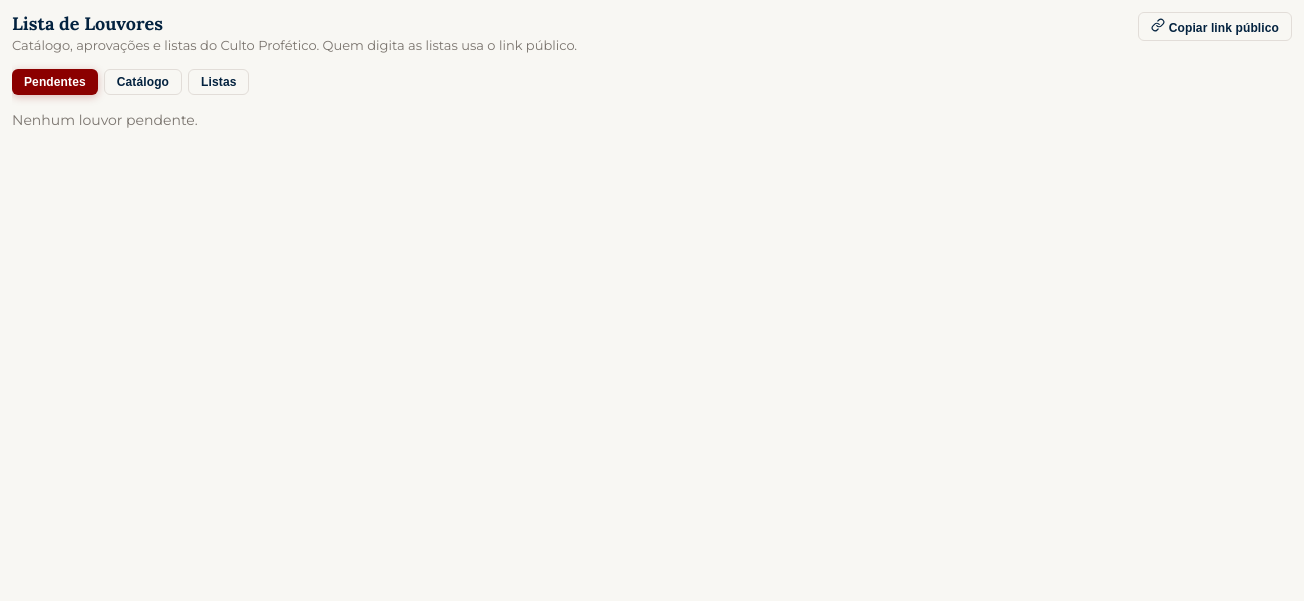
Test: Catálogo: totals and category filter › shows the overall total and one total per category
The image size is (1304, 601).
Click the button "Catálogo" at (143, 82), box x1=104 y1=69 x2=182 y2=95
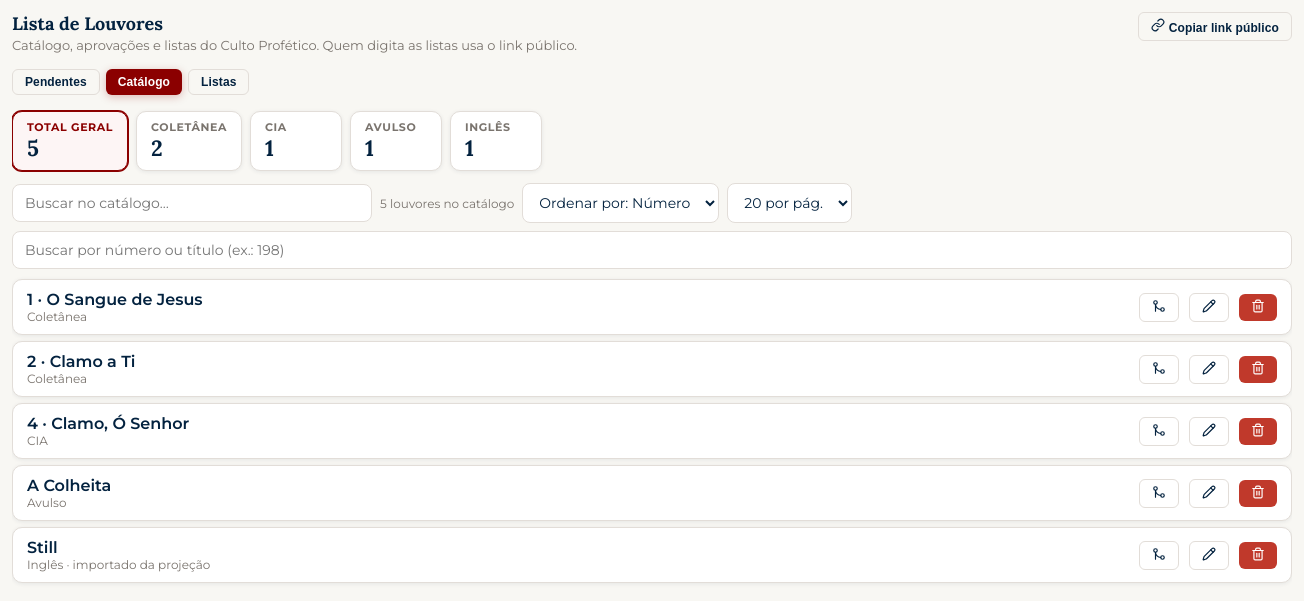
Check: the element named "Filtrar por categoria" is shown, box x1=12 y1=111 x2=542 y2=171
